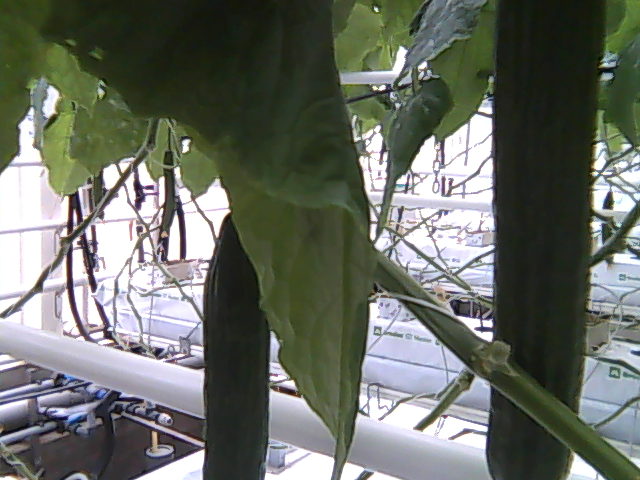concombre: (484, 1, 608, 480), (202, 207, 274, 480)
